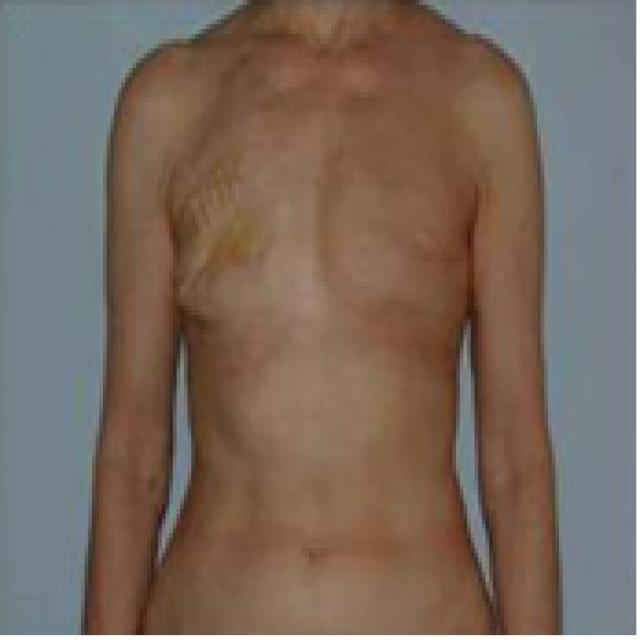Seno herido: (166, 135, 322, 355), (326, 132, 473, 353)
